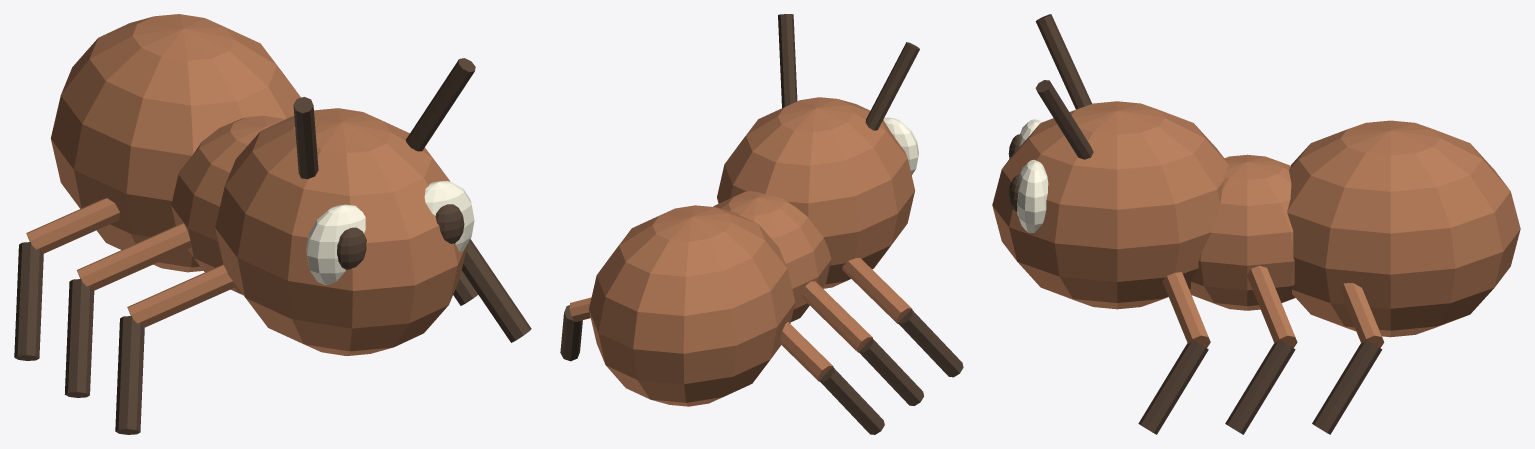
File: Ant.fbx
The picture shows the model from 3 angles, left to right: view 1: azimuth 30°, elevation 25°; view 2: azimuth 150°, elevation 25°; view 3: azimuth 270°, elevation 25°; orthographic projection. The views are drawn at different scales.
Visible parts, largest first — view 1: Ant body.002, Ant body, Ant body.001, Upper leg.001, Lower leg, Lower leg.002, Lower leg.001, Upper leg, Eye, Lower leg.003, Upper leg.002, Antenna.001 (+4 smaller); view 2: Ant body, Ant body.002, Ant body.001, Upper leg.001, Upper leg, Lower leg.002, Lower leg, Lower leg.001, Antenna, Antenna.001, Upper leg.002, Lower leg.005 (+2 smaller); view 3: Ant body, Ant body.002, Ant body.001, Lower leg.004, Lower leg.005, Lower leg.003, Eye.001, Upper leg.004, Antenna, Upper leg.003, Antenna.001, Upper leg.005.
Part boxes in pixels (<box>): Ant body.002: <box>215,108,467,355</box>; Ant body: <box>50,14,300,272</box>; Ant body.001: <box>171,115,284,294</box>; Upper leg.001: <box>77,223,190,290</box>; Lower leg: <box>115,316,144,434</box>; Lower leg.002: <box>14,242,43,360</box>; Lower leg.001: <box>64,279,94,397</box>; Upper leg: <box>127,264,236,327</box>; Eye: <box>306,204,365,284</box>; Lower leg.003: <box>462,239,531,342</box>; Upper leg.002: <box>26,198,119,253</box>; Antenna.001: <box>406,58,475,151</box>; Ant body: <box>589,205,795,406</box>; Ant body.002: <box>717,97,915,288</box>; Ant body.001: <box>713,191,831,321</box>; Upper leg.001: <box>802,281,872,352</box>; Upper leg: <box>842,258,912,323</box>; Lower leg.002: <box>819,367,884,434</box>; Lower leg: <box>898,309,963,377</box>; Lower leg.001: <box>859,338,923,405</box>; Antenna: <box>865,42,919,130</box>; Antenna.001: <box>778,14,797,107</box>; Upper leg.002: <box>780,322,833,381</box>; Lower leg.005: <box>560,305,582,361</box>; Ant body: <box>1287,120,1520,337</box>; Ant body.002: <box>992,101,1228,309</box>; Ant body.001: <box>1189,154,1295,310</box>; Lower leg.004: <box>1225,340,1295,434</box>; Lower leg.005: <box>1312,340,1382,434</box>; Lower leg.003: <box>1138,340,1208,434</box>; Eye.001: <box>1017,159,1048,232</box>; Upper leg.004: <box>1247,265,1297,347</box>; Antenna: <box>1035,14,1092,109</box>; Upper leg.003: <box>1162,272,1210,347</box>; Antenna.001: <box>1035,80,1093,159</box>; Upper leg.005: <box>1339,283,1384,347</box>.
Size of the model in its own units: 94.47 by 77.57 by 122.
